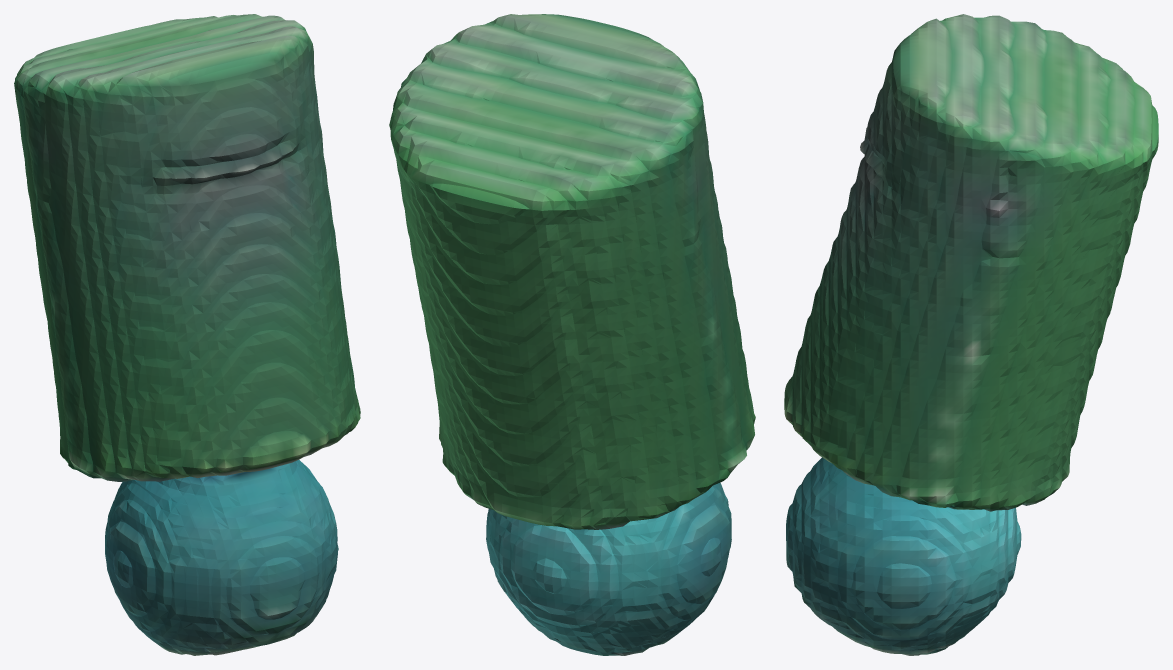
File: triposr_on_top_of__cylinder_sphere__000.glb
3 views of the same model, side by side, from view 1: azimuth 30°, elevation 25°; view 2: azimuth 150°, elevation 25°; view 3: azimuth 270°, elevation 25° (orthographic). The views are drawn at different scales.
Visible parts, largest first — view 1: geometry_0; view 2: geometry_0; view 3: geometry_0.
Boxes of the visible parts, x1,y1,x2,y2 form: geometry_0: (14, 14, 360, 655); geometry_0: (389, 14, 755, 655); geometry_0: (784, 14, 1158, 655).
Bounding box in the file's own units: 0.4762 × 0.9842 × 0.5705.
